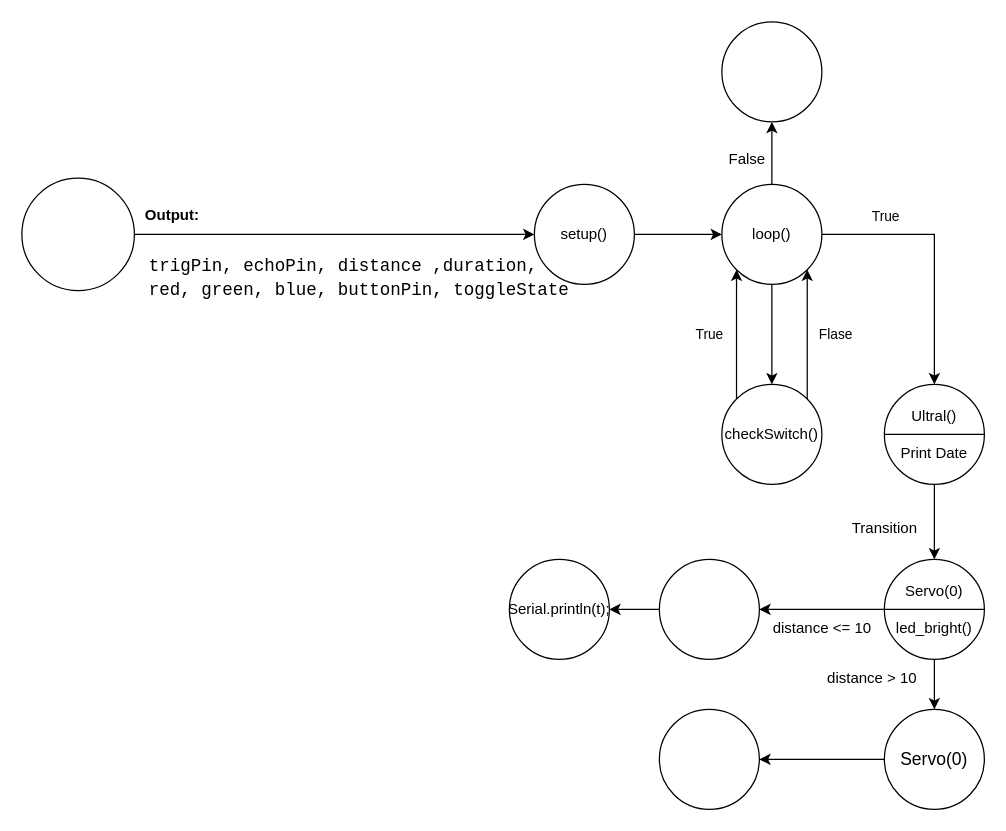
Image size: 1006x831. Some labels were removed from this diagram. The centre of each missing label's shape, as x and y in pixels:
digital(blue, HIGH);: (x=771, y=71)
digital(green, HIGH);: (x=708, y=758)
Sevo(90) digital(red, HIGH);: (x=708, y=608)
Start: (x=77, y=234)
